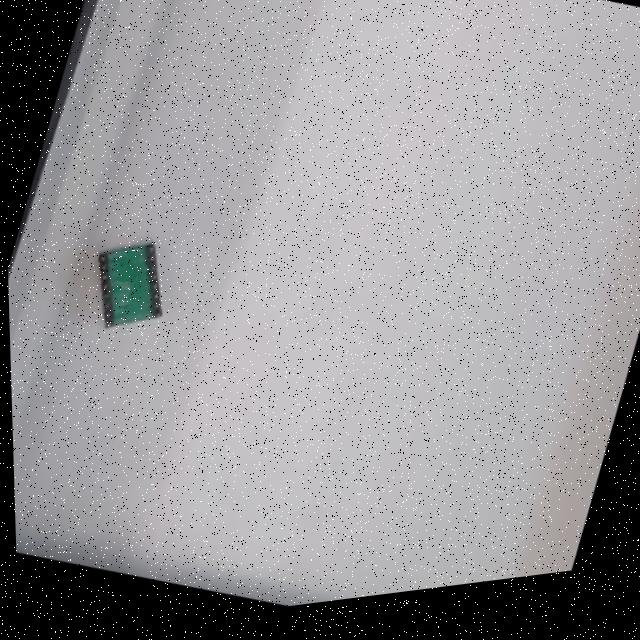Chip: (78, 223, 188, 348)
